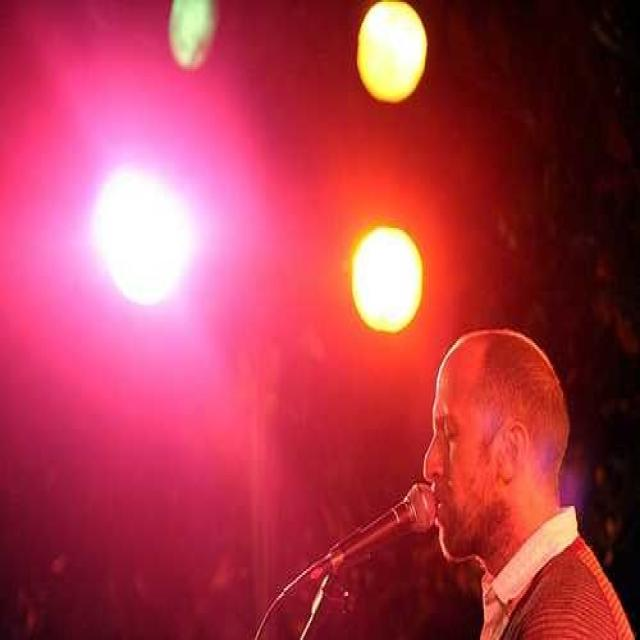microphone: (313, 483, 432, 575)
